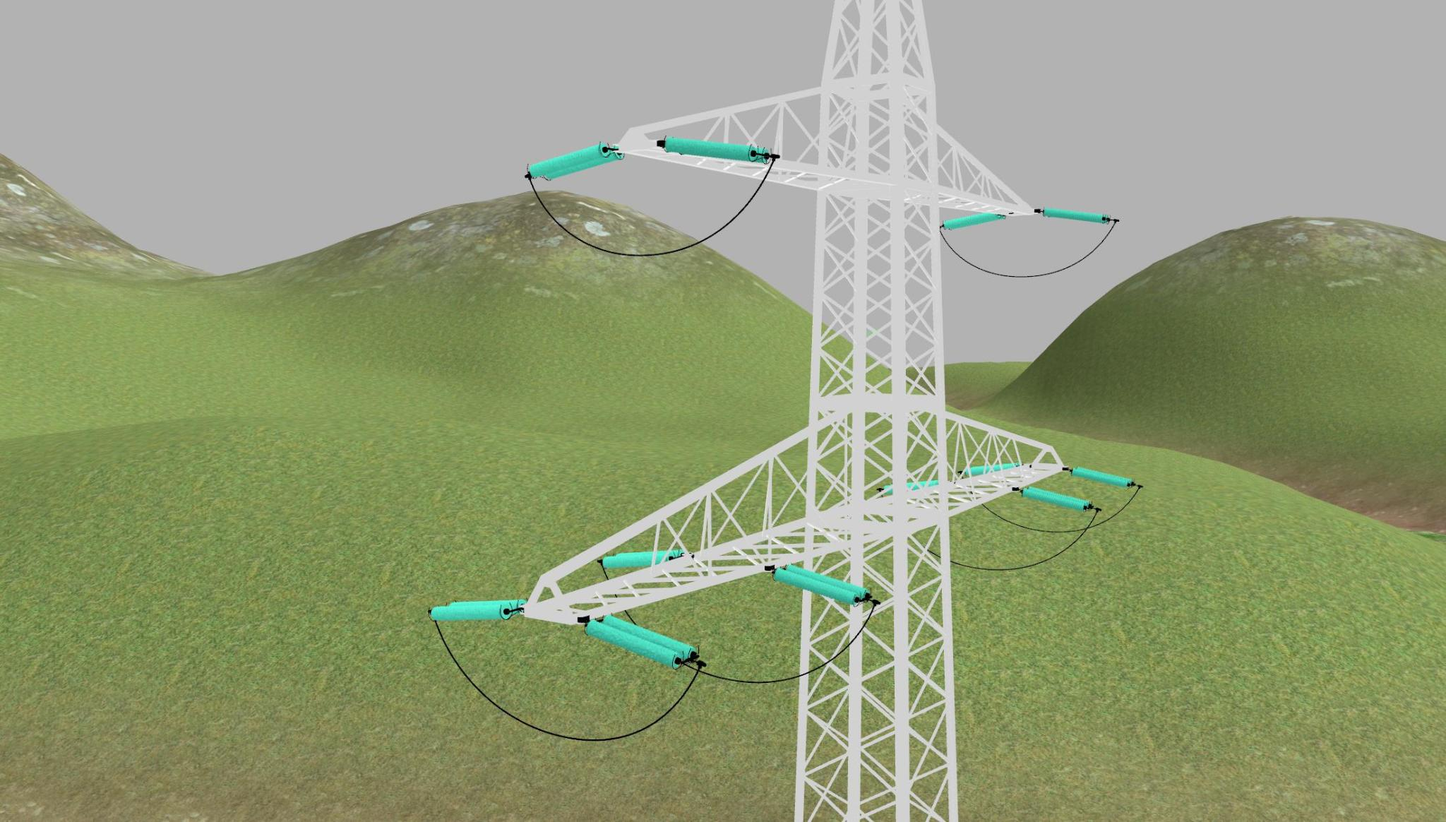tower: (518, 0, 1070, 822)
